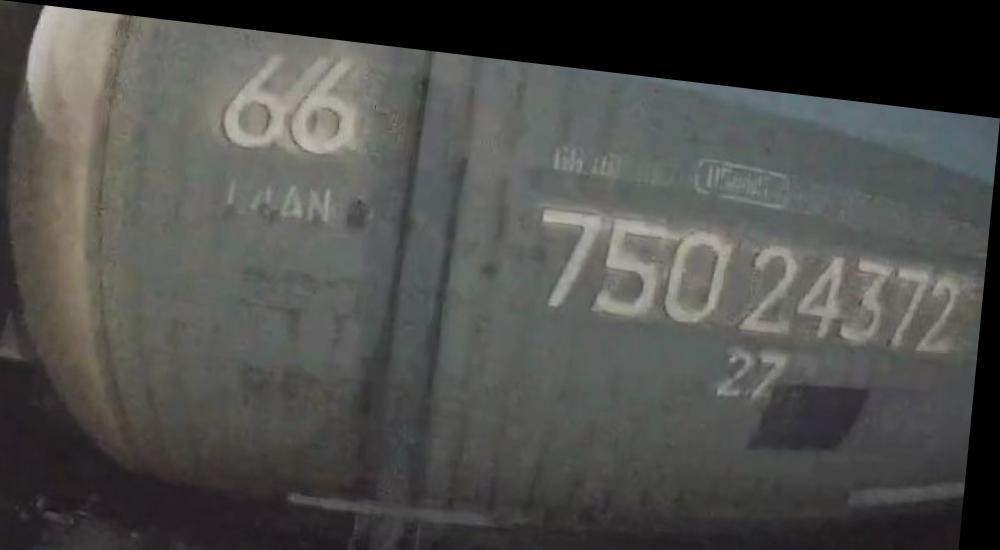Wagon-number: (533, 183, 968, 340)
